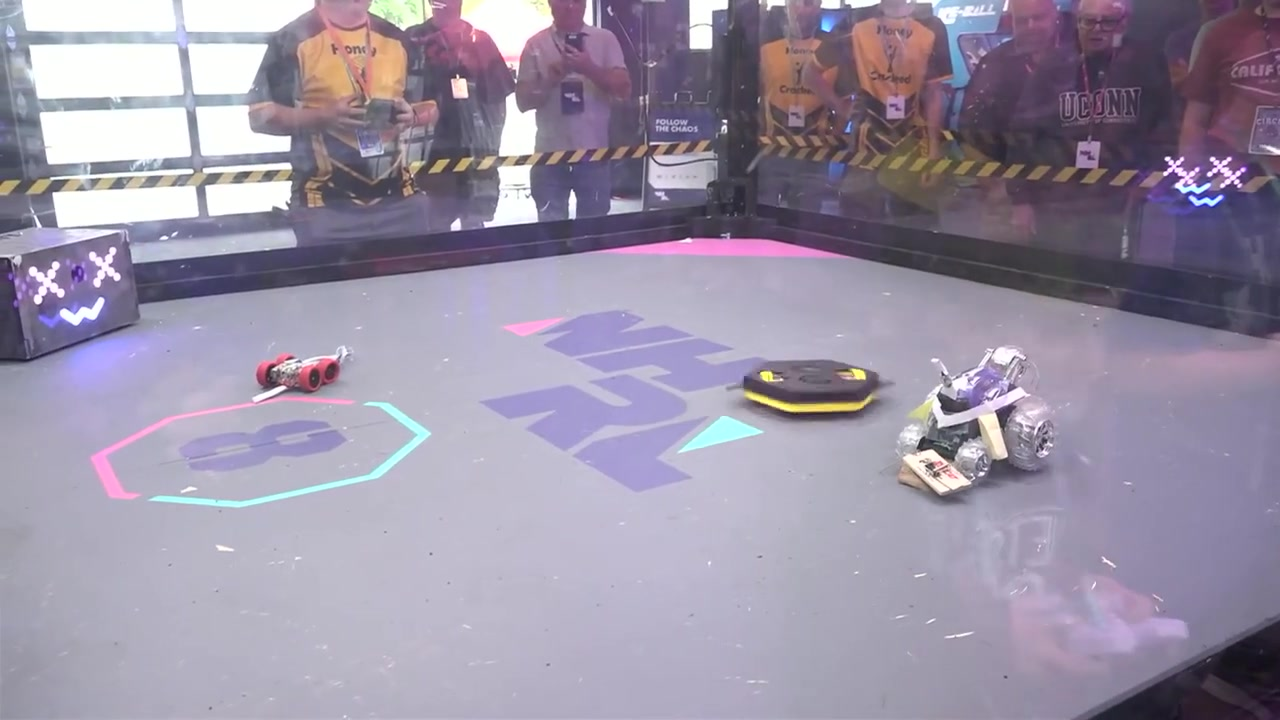combatbot: (899, 347, 1056, 496), (737, 359, 886, 417), (251, 346, 357, 403)
housebot: (0, 227, 139, 364)
